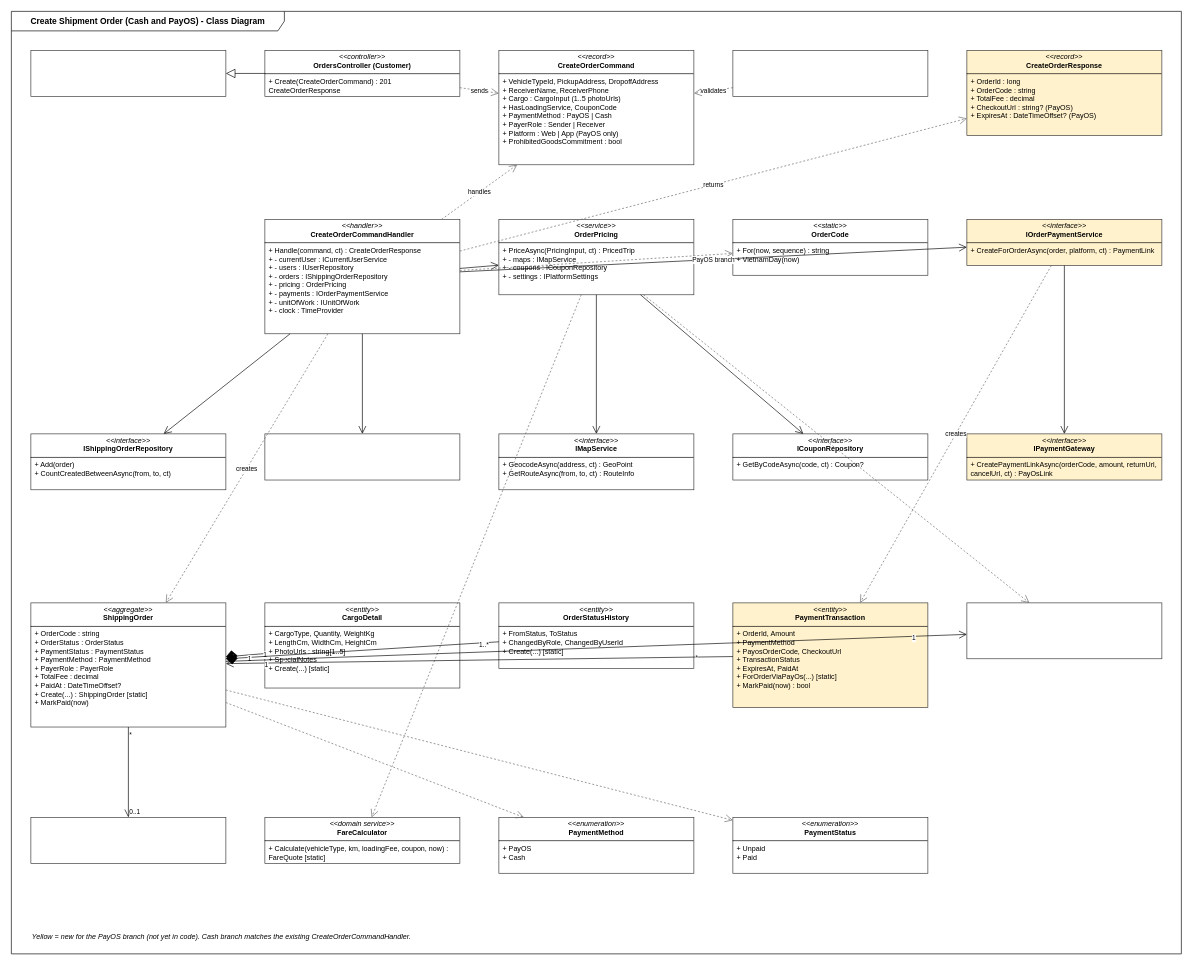
Some shapes in this 1193 by 965 pixel diagram are drawn without their labels. Here are the shapes that lost their labels. From the top down, the centre of each, then its label:
point 128,73: <<abstract>> ApiControllerBase + # Sender : ISender
point 830,73: <<validator>> CreateOrderCommandValidator + Validate(command)
point 362,456: <<interface>> IUnitOfWork + SaveChangesAsync(ct)
point 1064,630: <<entity>> VehicleType + CanCarry(weightKg, l, w, h) : bool + IsActive : bool
point 128,840: <<entity>> Coupon + MarkUsed() (B11: used_count++)
